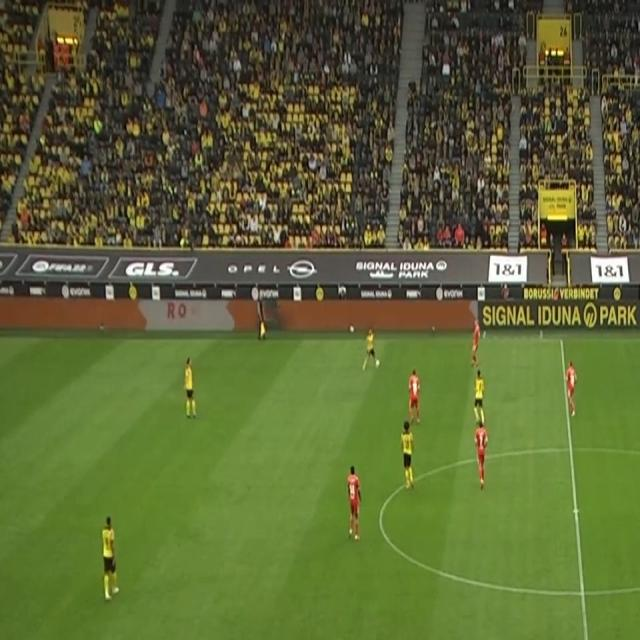ball: (375, 358, 381, 369)
